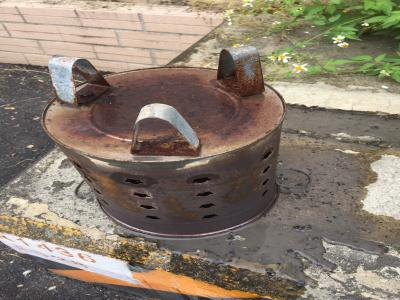bucket: (39, 63, 287, 247)
